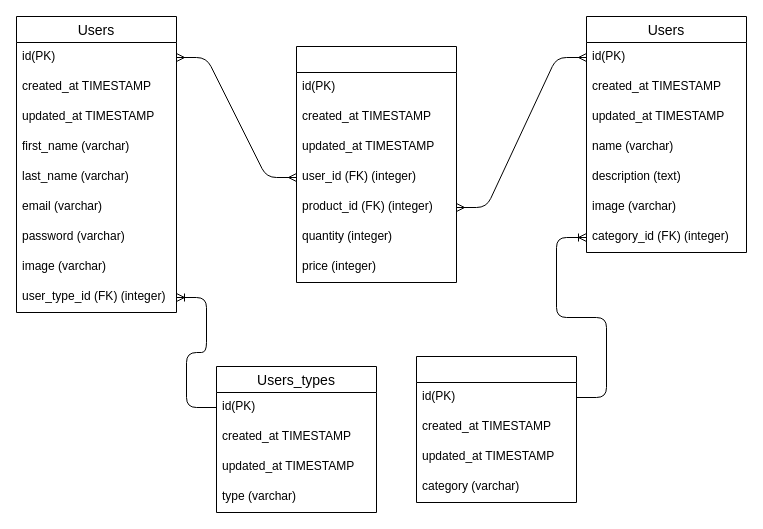
Image size: 763x529. Some labels were removed from this diagram. The box of each missing label's shape, as (x1, y1, x2, y2) in pixels:
Categories: (416, 356, 576, 502)
Users_products: (296, 46, 456, 282)
